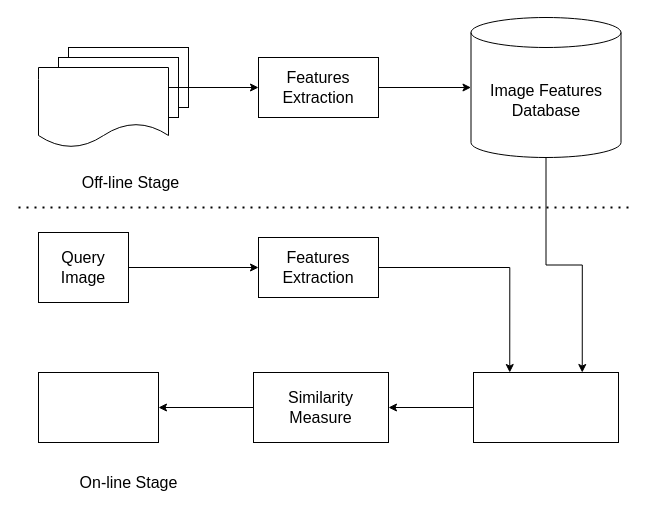
This 647x515 diagram has some shape labels left out. Each missing label, with the centre of its shape:
"Images" goes at (x=103, y=107).
"Images Retrieved" goes at (x=98, y=407).
"Indexing (Faiss)" goes at (x=545, y=407).
